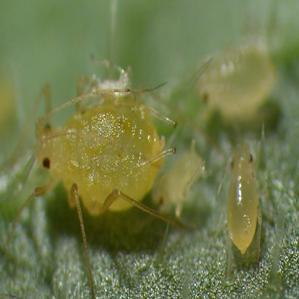Green peach aphid: (14, 64, 187, 246), (186, 27, 287, 120), (209, 134, 279, 254), (149, 135, 206, 226)
